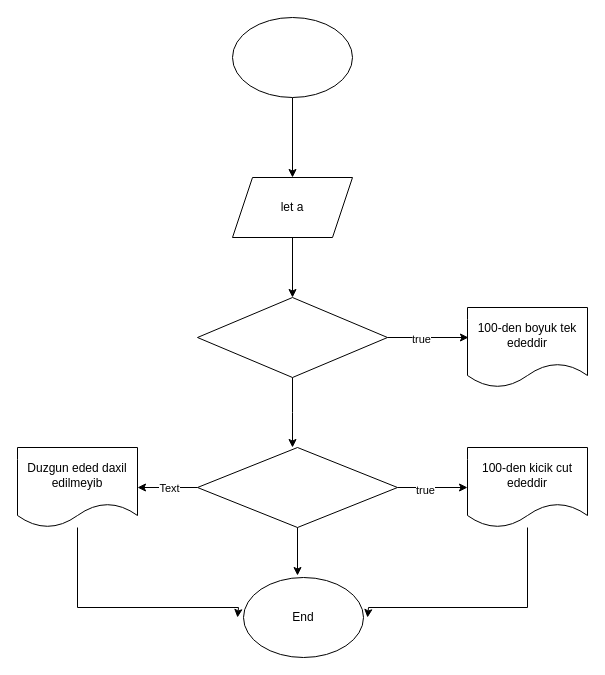
Some shapes in this 605 by 675 pixel diagram are drawn without their labels. The box of each missing label's shape, as (x1, y1, x2, y2) in pixels:
a<100 && a%2==0: (196, 446, 398, 528)
a>100 && a%2 !=0: (196, 296, 388, 378)
Start: (232, 16, 352, 98)
